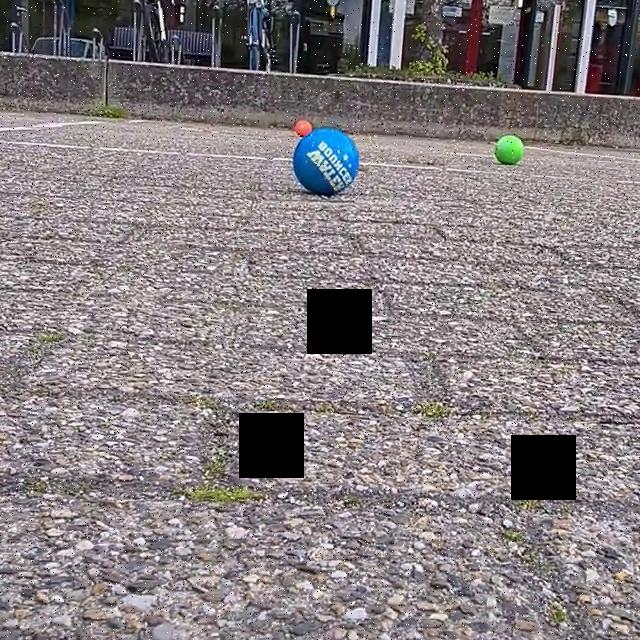ball: (492, 133, 526, 169), (292, 115, 316, 140)
